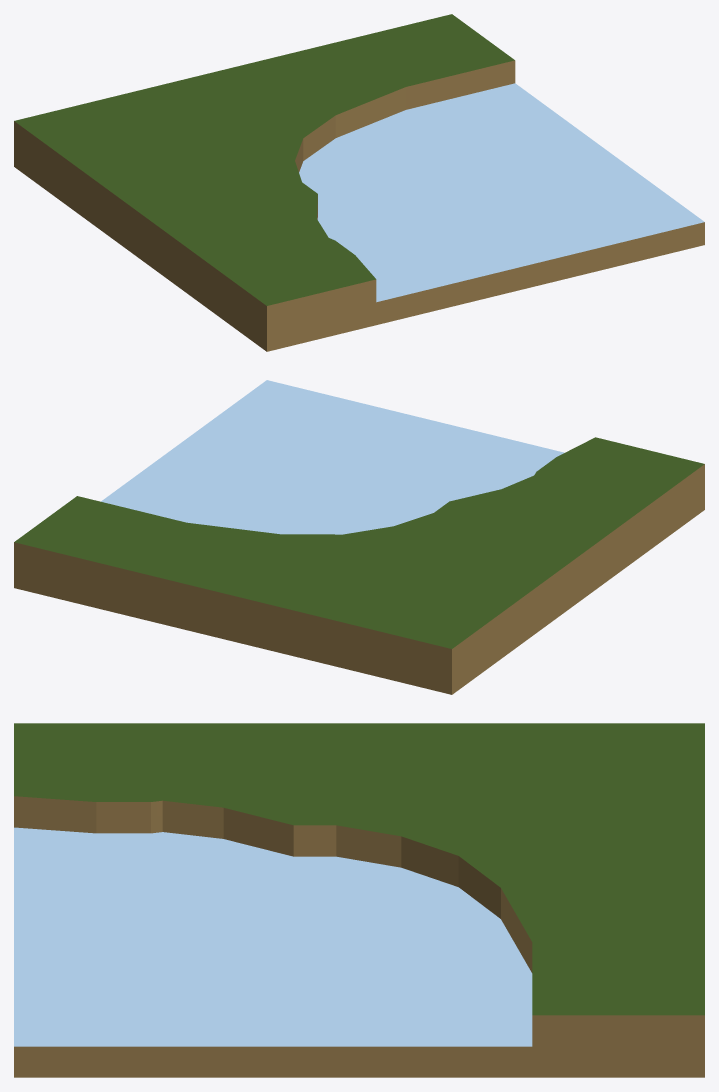
File: Terrain_Modular_Tiles_Grass_Dirt_Water_Edge_Corner_Outer_03.fbx
3 renders of one model, top to bottom at view 1: azimuth 30°, elevation 25°; view 2: azimuth 150°, elevation 25°; view 3: azimuth 270°, elevation 25°, orthographic. The views are drawn at different scales.
Visible parts, largest first — view 1: Terrain_Modular_Tiles_Grass_Dirt_Water_Edge_Corner_Outer_03; view 2: Terrain_Modular_Tiles_Grass_Dirt_Water_Edge_Corner_Outer_03; view 3: Terrain_Modular_Tiles_Grass_Dirt_Water_Edge_Corner_Outer_03.
Part boxes in pixels (bbox=[...]): Terrain_Modular_Tiles_Grass_Dirt_Water_Edge_Corner_Outer_03: bbox=[14, 14, 704, 351]; Terrain_Modular_Tiles_Grass_Dirt_Water_Edge_Corner_Outer_03: bbox=[14, 380, 704, 694]; Terrain_Modular_Tiles_Grass_Dirt_Water_Edge_Corner_Outer_03: bbox=[14, 723, 704, 1077].
Size of the model in its own units: 3000 by 300 by 3000.
